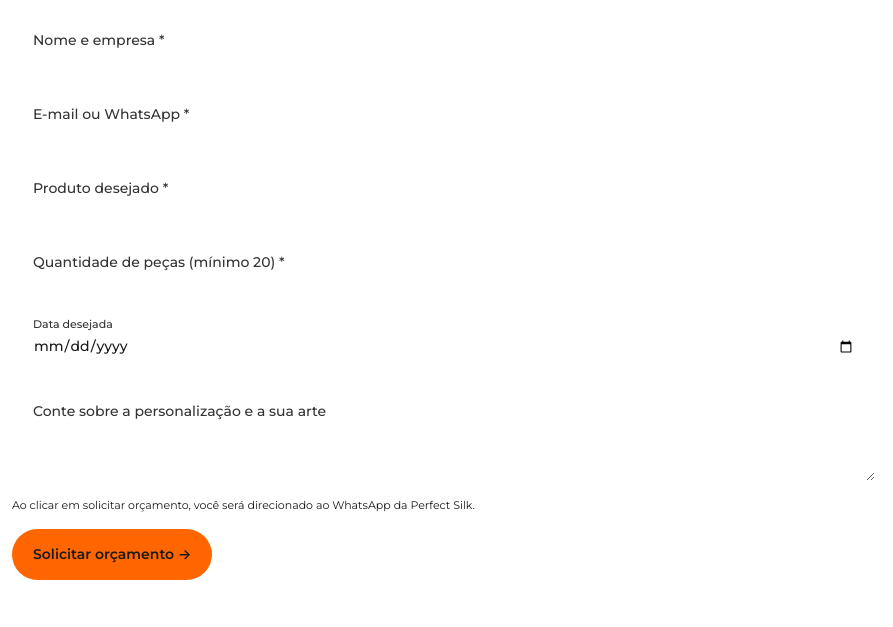
Test: QuoteForm › rejects fewer than 20 pieces with the minimum message
Type "Maria Souza" into the field labelled "Nome e empresa *".
click(444, 41); type("Maria Souza")  # box x1=13 y1=13 x2=875 y2=69
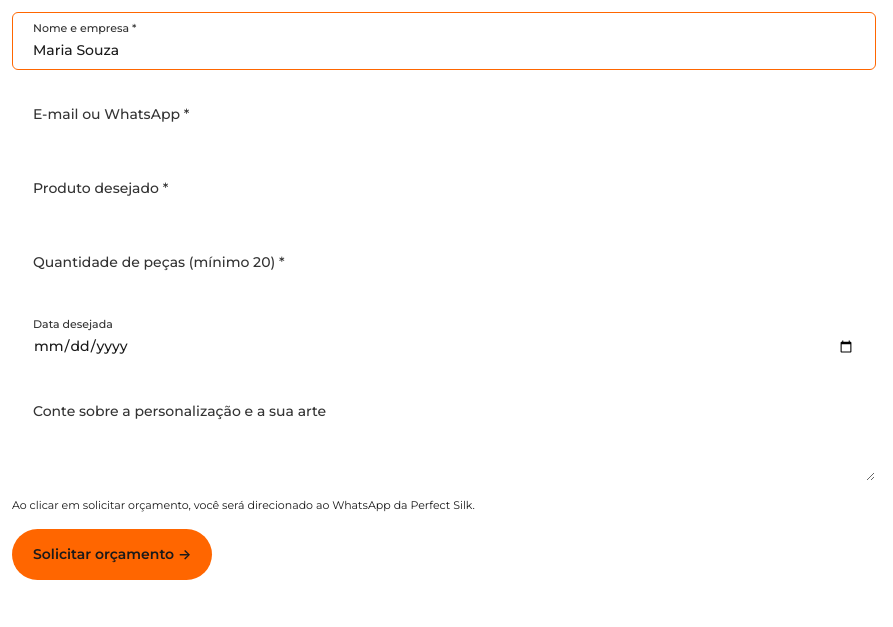
Type "91999990000" into the field labelled "E-mail ou WhatsApp *".
click(444, 115); type("91999990000")  # box x1=13 y1=87 x2=875 y2=143
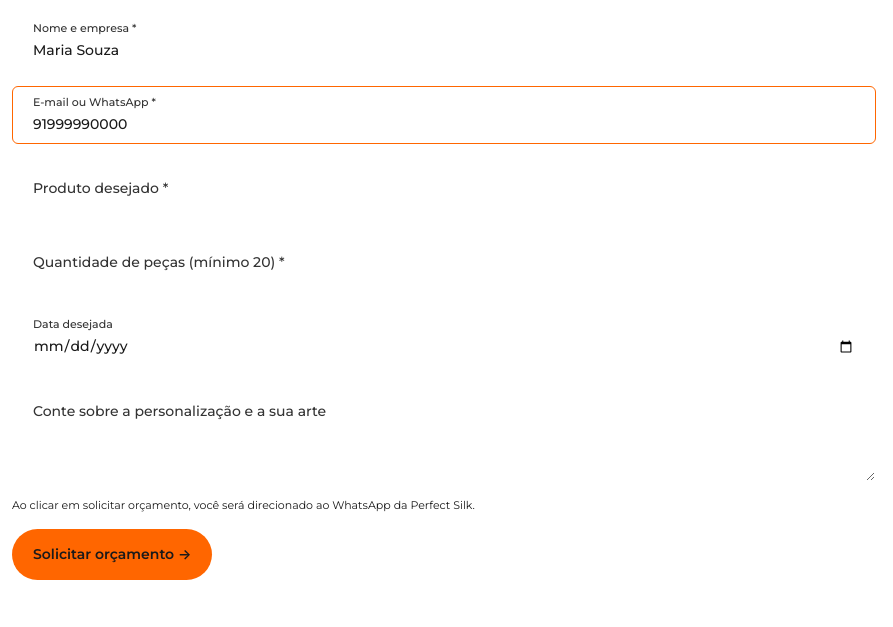
Type "Camisetas" into the field labelled "Produto desejado *".
click(444, 189); type("Camisetas")  # box x1=13 y1=161 x2=875 y2=217
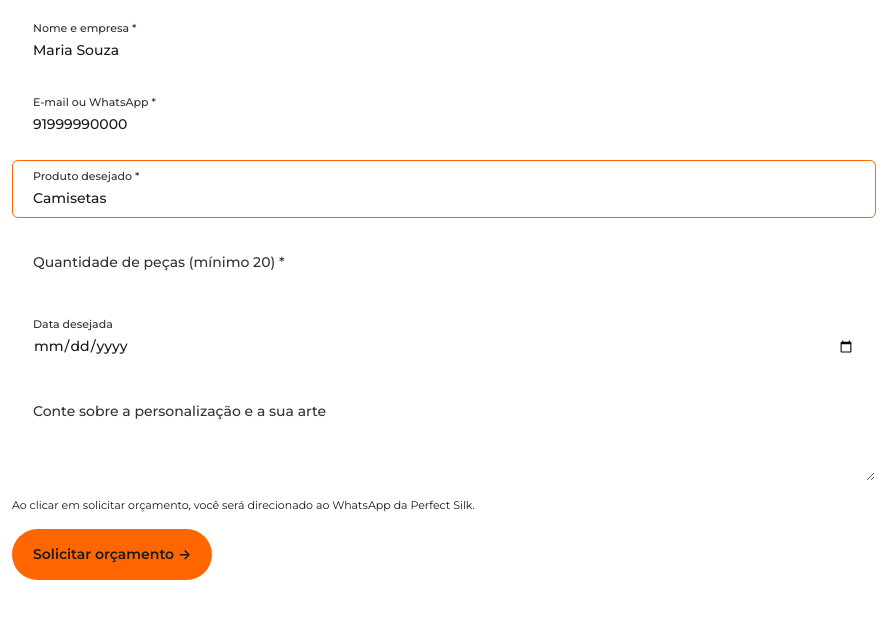
Type "19" into the field labelled "Quantidade de peças (mínimo 20) *".
click(444, 263); type("19")  # box x1=13 y1=235 x2=875 y2=291
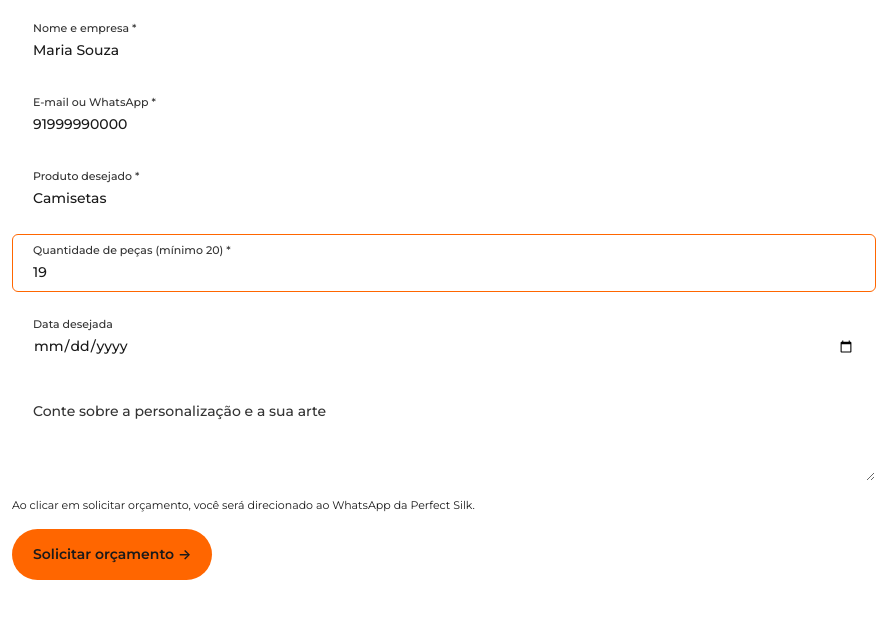
Type "Arte pronta" into the text box labelled "Conte sobre a personalização e a sua arte".
click(444, 432); type("Arte pronta")  # box x1=13 y1=384 x2=875 y2=481
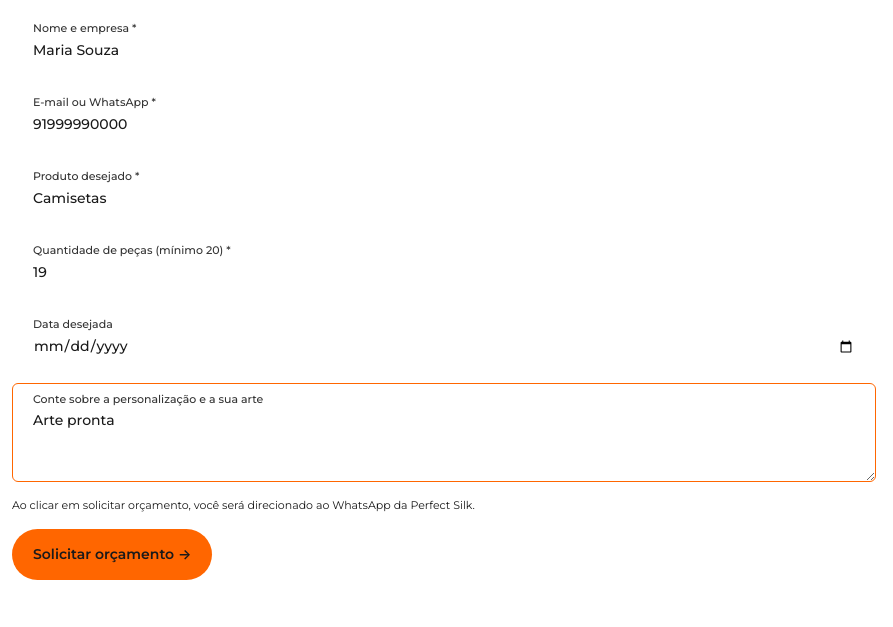
Click the button "Solicitar orçamento →".
click(112, 554)  # box x1=12 y1=529 x2=212 y2=580
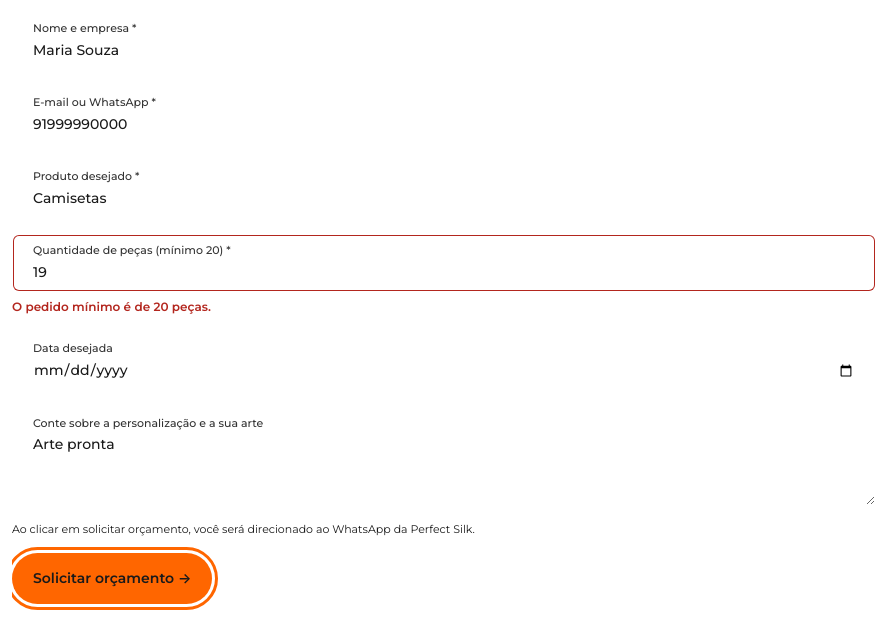
Check: the text "O pedido mínimo é de 20 peças." is shown, box x1=12 y1=299 x2=211 y2=314
